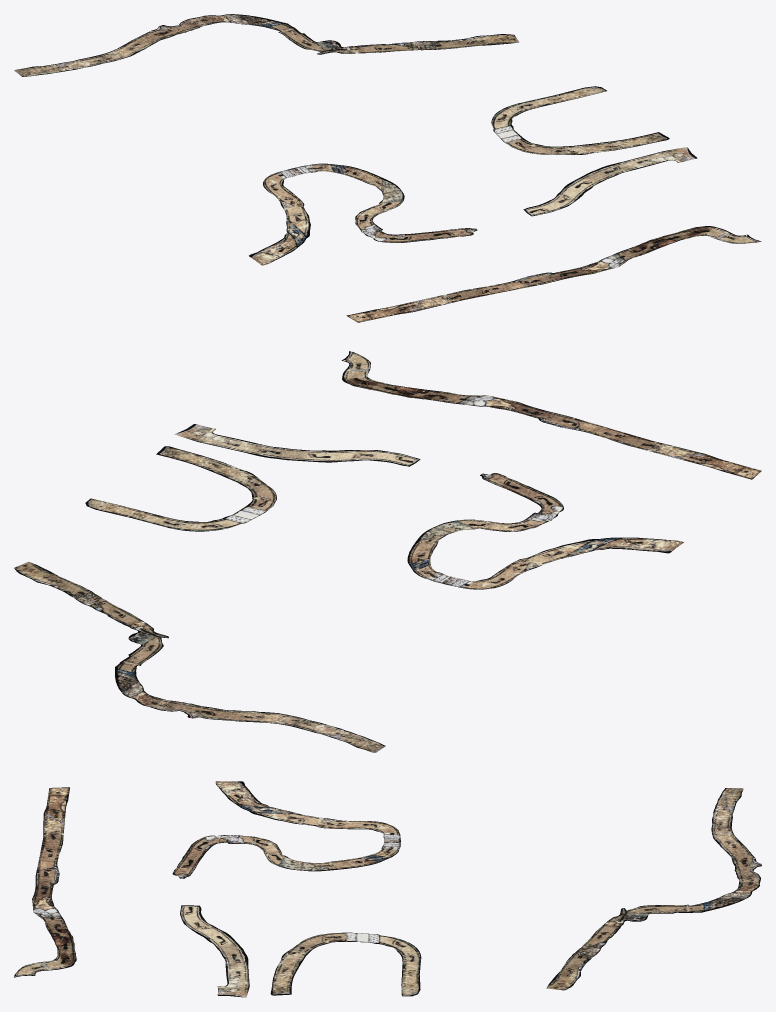
Rendered from paths.fbx.
The picture shows the model from 3 angles, top to bottom: view 1: azimuth 30°, elevation 25°; view 2: azimuth 150°, elevation 25°; view 3: azimuth 270°, elevation 25°; orthographic projection. The views are drawn at different scales.
Visible parts, largest first — view 1: paths; view 2: paths; view 3: paths.
Boxes of the visible parts, x1=… form: paths: x1=14, y1=14, x2=761, y2=322; paths: x1=14, y1=351, x2=761, y2=752; paths: x1=14, y1=781, x2=761, y2=997.
Size of the model in its own units: 233 by 0 by 340.
Materials: 1 (1 with a texture image).
